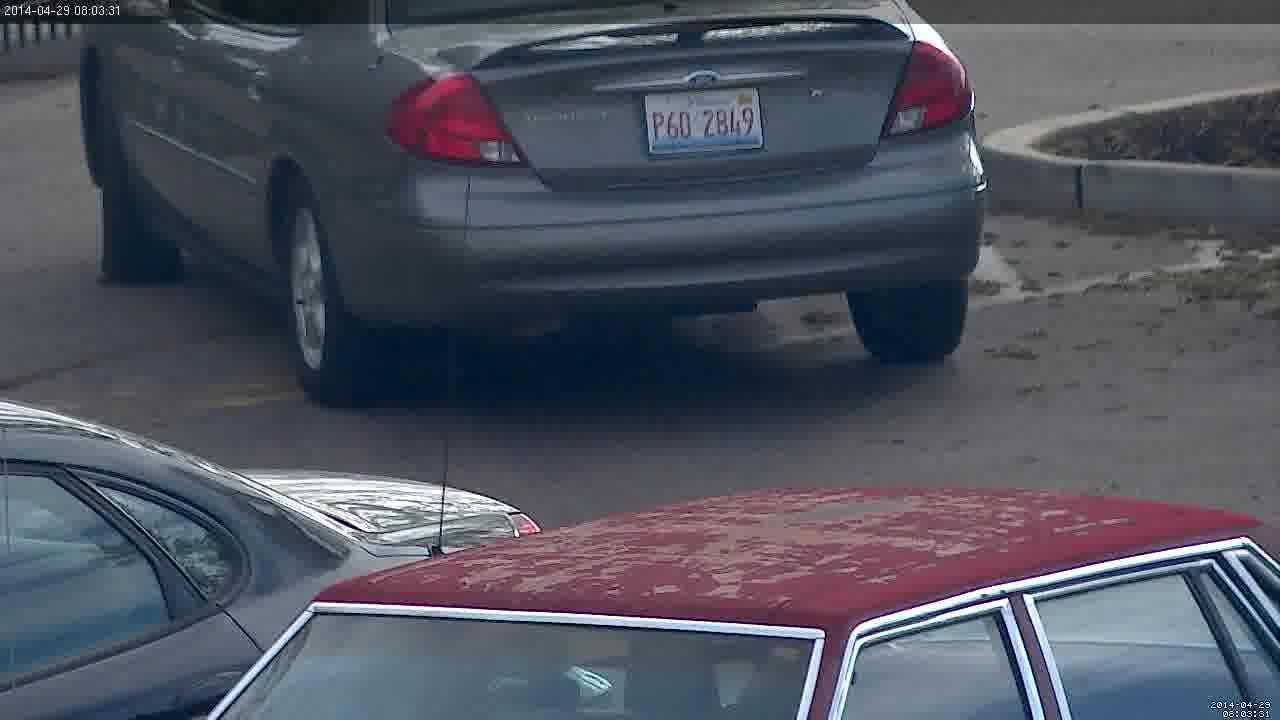placa de veiculo: (613, 64, 784, 176)
